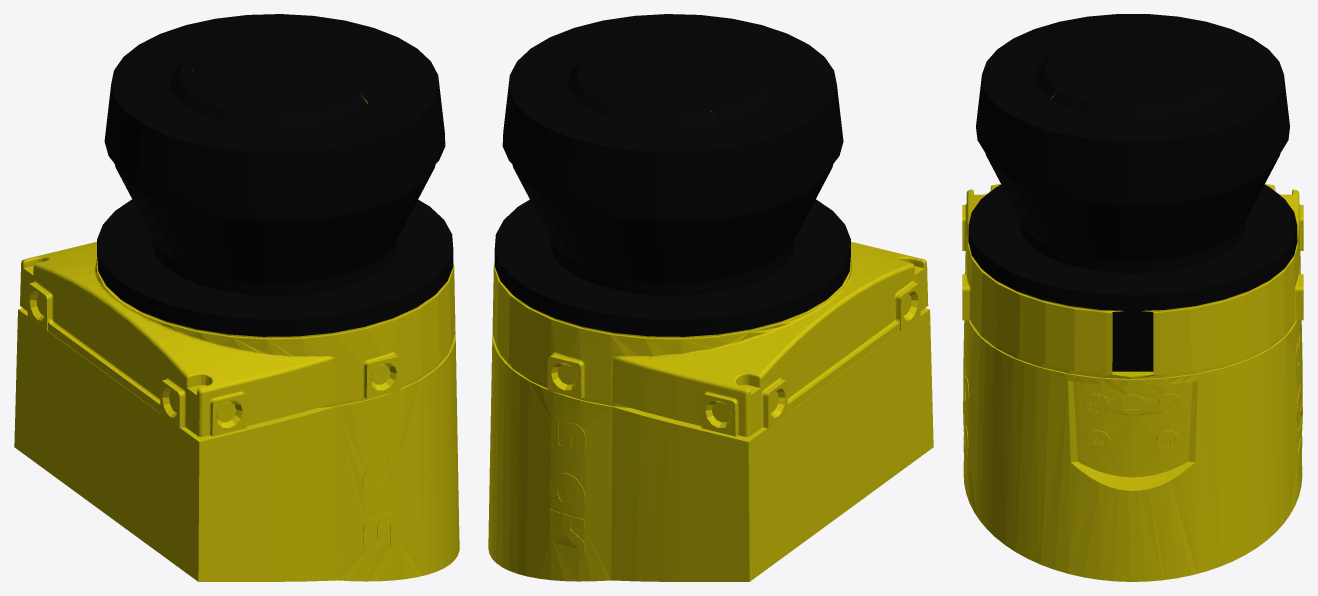
Rendered from sick_s300_laser.dae.
3 renders of one model, left to right at view 1: azimuth 30°, elevation 25°; view 2: azimuth 150°, elevation 25°; view 3: azimuth 270°, elevation 25°, orthographic. The views are drawn at different scales.
Visible parts, largest first — view 1: Sick_S300_Laser; view 2: Sick_S300_Laser; view 3: Sick_S300_Laser.
Part boxes in pixels (x1,y1,x2,y2): Sick_S300_Laser: (14, 14, 459, 581); Sick_S300_Laser: (488, 14, 933, 581); Sick_S300_Laser: (962, 14, 1303, 581).
Bounding box in the file's own units: 0.1053 × 0.102 × 0.1456.
